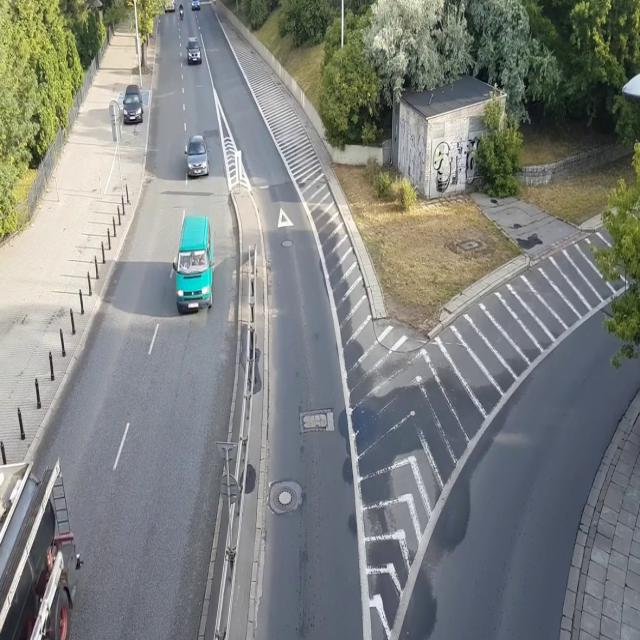car: (183, 134, 210, 178), (122, 85, 144, 125), (186, 38, 202, 66), (191, 0, 201, 12)
motorcycle: (179, 3, 184, 20)
truck: (0, 460, 85, 640), (162, 0, 175, 13)
van: (172, 216, 215, 312)
